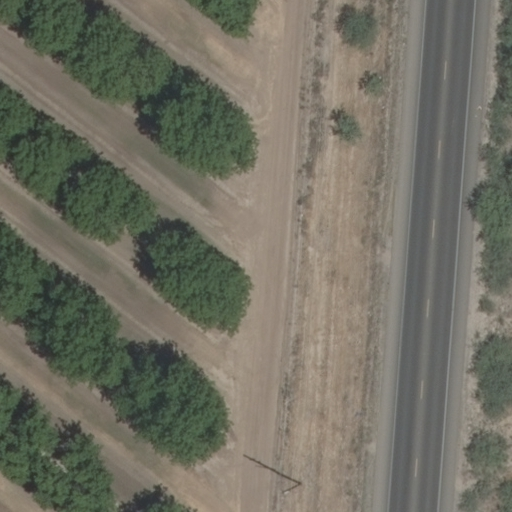DT: (276, 480, 305, 498)
